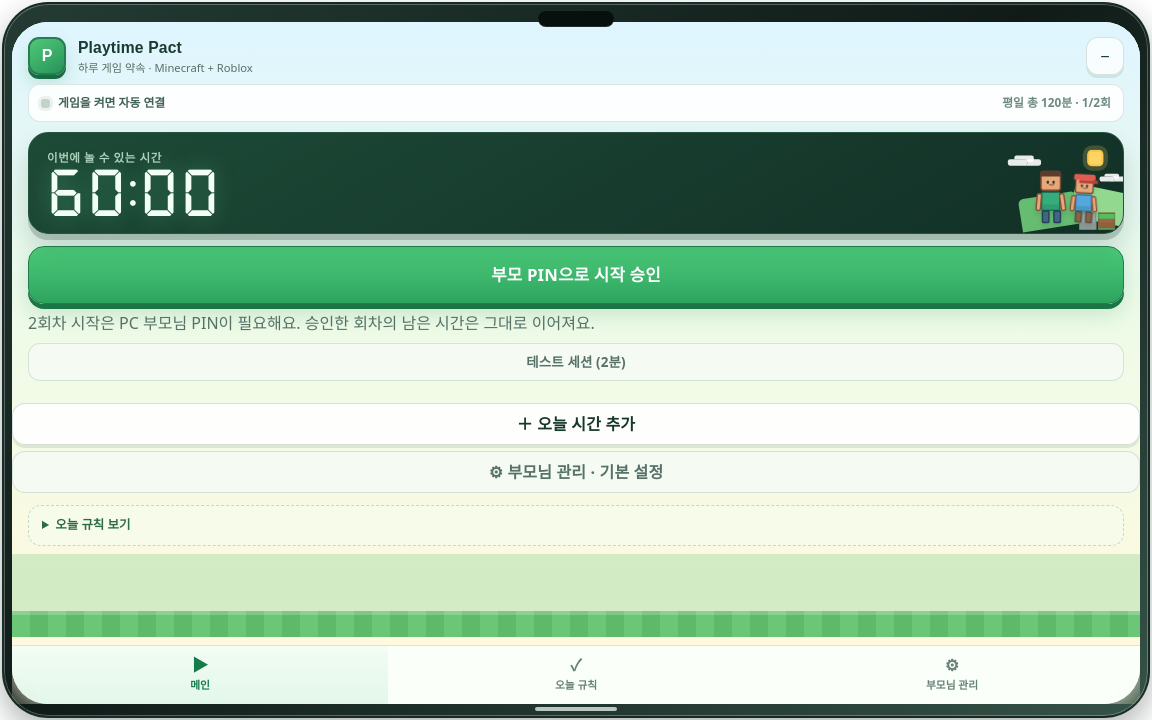
Test: renderer interactions › shows PC PIN only for the second session even when first-session approval is disabled
Expected: the text "2회차 시작은 PC 부모님 PIN이 필요해요. 승인한 회차의 남은 시간은 그대로 이어져요." is shown, [28, 312, 595, 334]
Click the button "부모 PIN으로 시작 승인": (576, 275) [28, 246, 1124, 304]
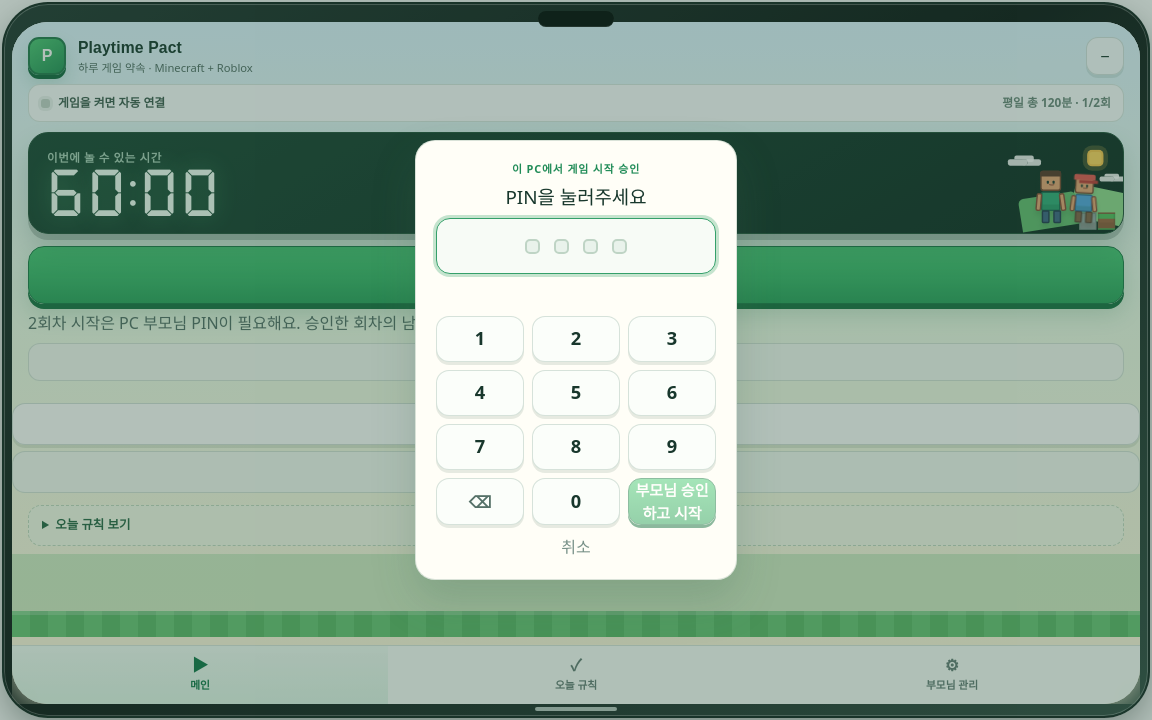
Expected: the dialog "PIN을 눌러주세요" is shown, [415, 140, 737, 580]
